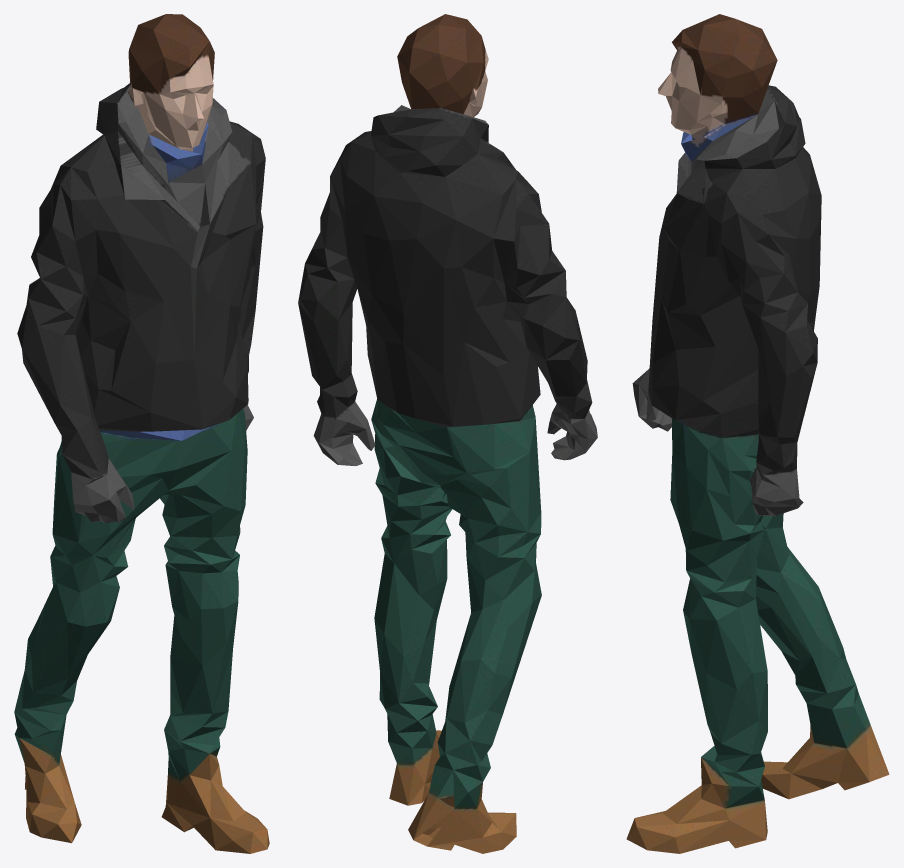
3 views of the same model, side by side, from view 1: azimuth 30°, elevation 25°; view 2: azimuth 150°, elevation 25°; view 3: azimuth 270°, elevation 25° (orthographic). The views are drawn at different scales.
Parts seen in each view (by area): view 1: lowpolyPeopleCasualMan_28.1; view 2: lowpolyPeopleCasualMan_28.1; view 3: lowpolyPeopleCasualMan_28.1.
Part boxes in pixels (x1,y1,x2,y2): lowpolyPeopleCasualMan_28.1: (14, 14, 269, 853); lowpolyPeopleCasualMan_28.1: (298, 14, 597, 853); lowpolyPeopleCasualMan_28.1: (626, 14, 889, 853).
Size of the model in its own units: 53.62 by 160 by 47.04.
2 materials, 1 textured.
